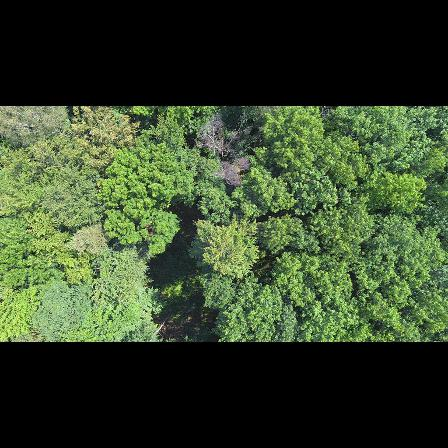Dead: (195, 117, 251, 155), (212, 156, 254, 186)
